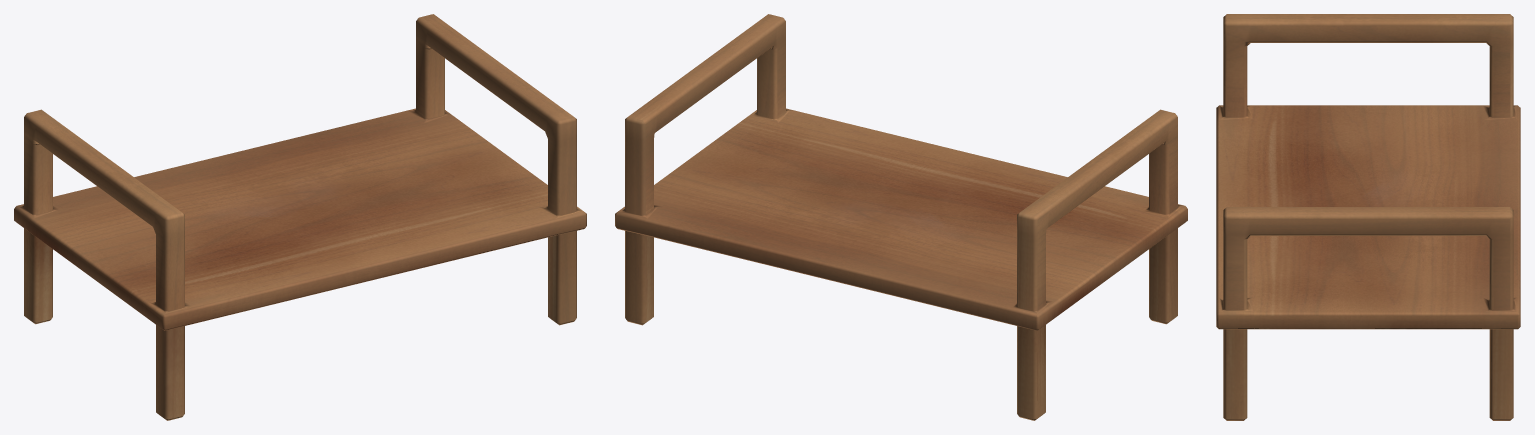
Rendered from BedFrameServant.fbx.
3 views of the same model, side by side, from view 1: azimuth 30°, elevation 25°; view 2: azimuth 150°, elevation 25°; view 3: azimuth 270°, elevation 25° (orthographic).
Parts seen in each view (by area): view 1: Frame; view 2: Frame; view 3: Frame.
Part boxes in pixels (x1,y1,x2,y2): Frame: [14, 14, 586, 420]; Frame: [615, 14, 1187, 420]; Frame: [1216, 14, 1520, 420].
Size of the model in its own units: 3.57 by 1.65 by 2.2.
